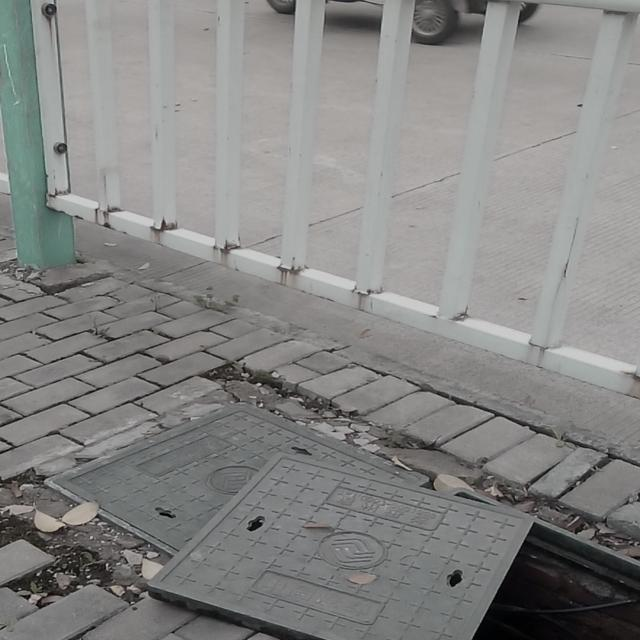uncovered: (46, 403, 640, 640)
